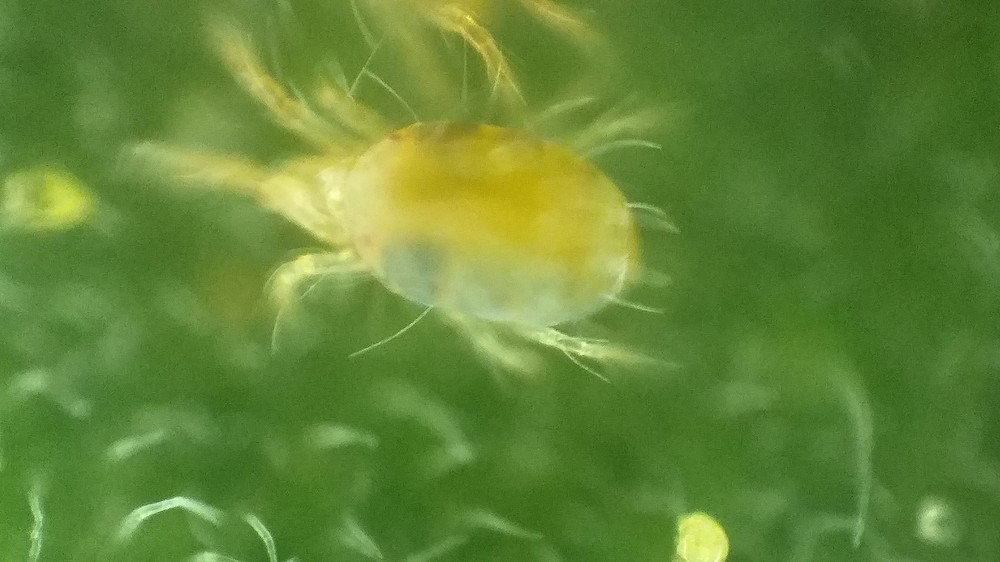Aracnido Rojo: (156, 35, 745, 413)
